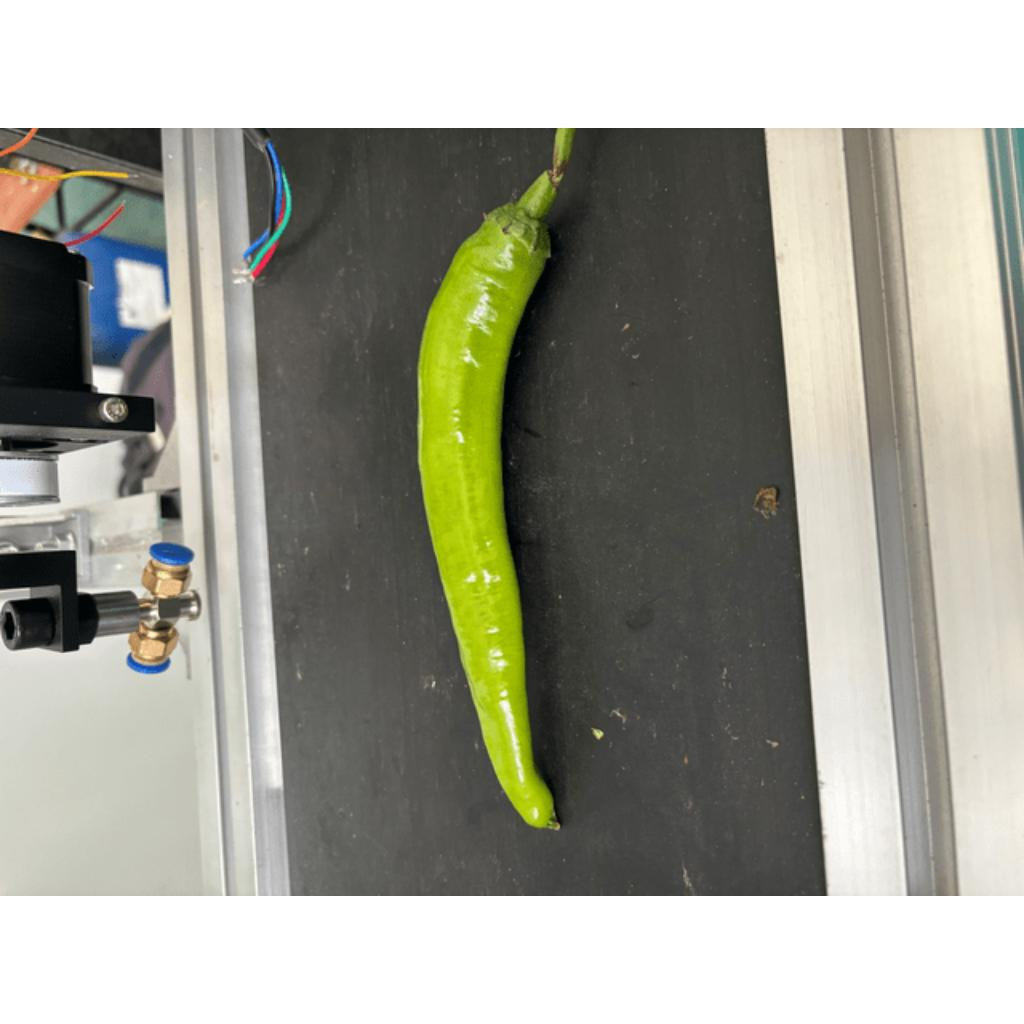chili: (414, 201, 566, 834)
